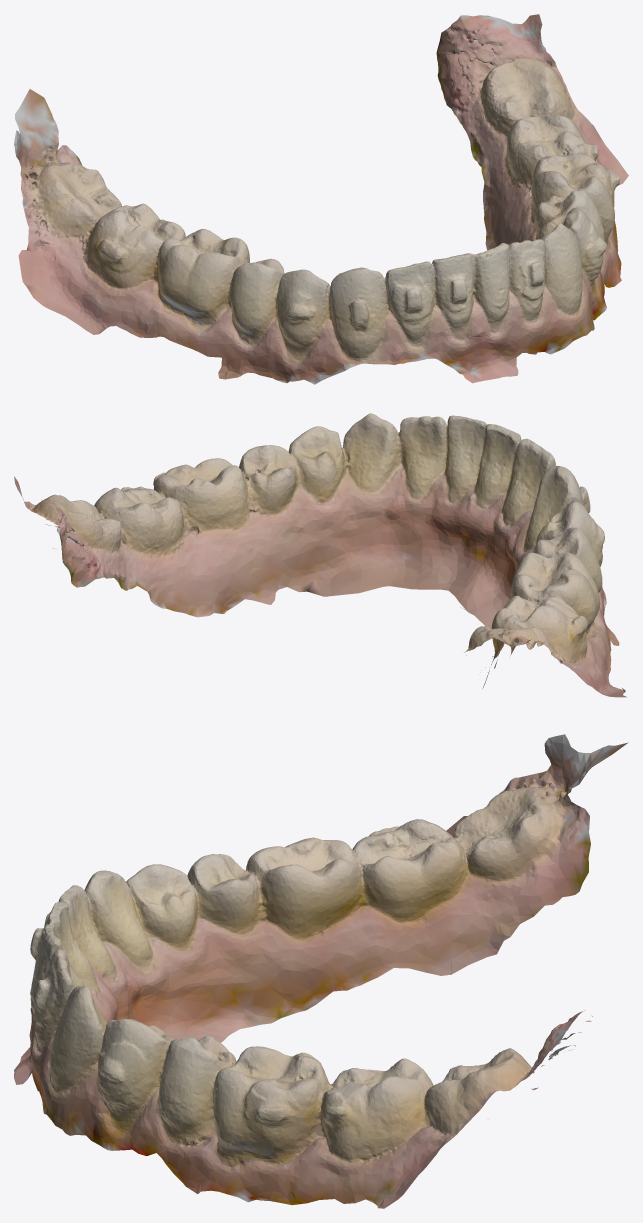
The model's file is arcada-inferior.glb.
3 renders of one model, top to bottom at view 1: azimuth 30°, elevation 25°; view 2: azimuth 150°, elevation 25°; view 3: azimuth 270°, elevation 25°, orthographic. The views are drawn at different scales.
Parts seen in each view (by area): view 1: inferior; view 2: inferior; view 3: inferior.
Boxes of the visible parts, x1,y1,x2,y2 form: inferior: (14, 14, 628, 384); inferior: (14, 413, 626, 697); inferior: (14, 734, 628, 1208).
Size of the model in its own units: 0.0839 by 0.0251 by 0.0624.
